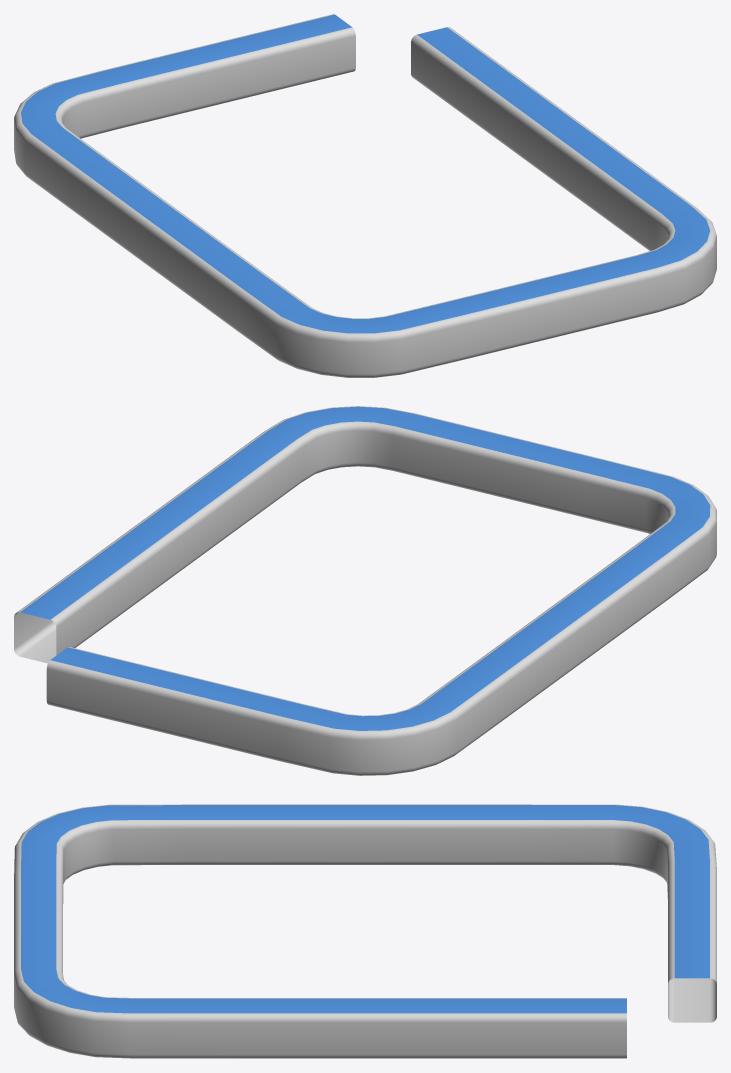
File: MeshSpline.fbx
3 renders of one model, top to bottom at view 1: azimuth 30°, elevation 25°; view 2: azimuth 150°, elevation 25°; view 3: azimuth 270°, elevation 25°, orthographic.
Visible parts, largest first — view 1: Custom Mesh; view 2: Custom Mesh; view 3: Custom Mesh.
Boxes of the visible parts, <box> form: Custom Mesh: <box>14,14,716,377</box>; Custom Mesh: <box>14,406,716,775</box>; Custom Mesh: <box>14,804,716,1058</box>.
Bounding box in the file's own units: 1550 × 150 × 2150.
